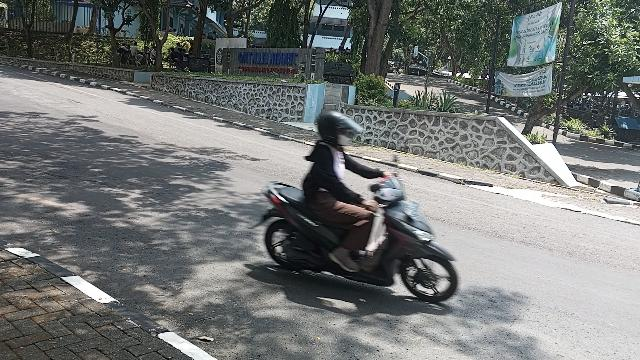helm: (320, 112, 365, 146)
motor: (251, 177, 460, 307)
